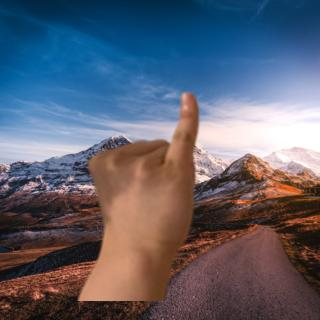FINE: (81, 88, 206, 264)
